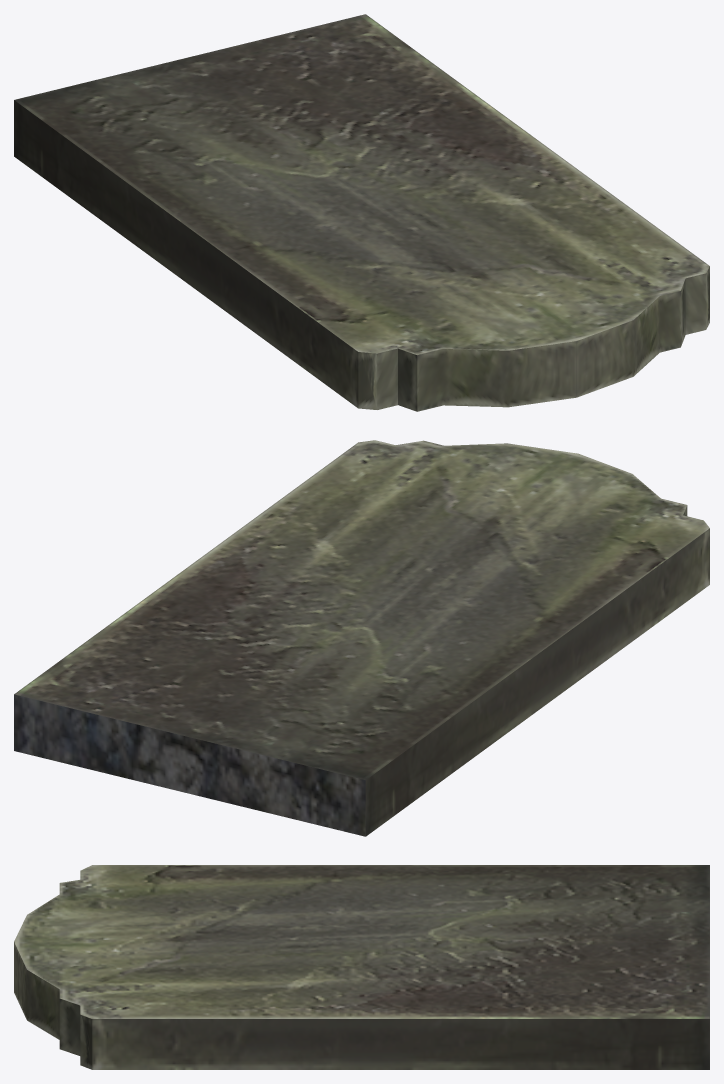
Rendered from Gravestone03.fbx.
3 views of the same model, one above another, from view 1: azimuth 30°, elevation 25°; view 2: azimuth 150°, elevation 25°; view 3: azimuth 270°, elevation 25° (orthographic). The views are drawn at different scales.
Visible parts, largest first — view 1: Gravestone03; view 2: Gravestone03; view 3: Gravestone03.
Part boxes in pixels (x1=…): Gravestone03: x1=14, y1=14, x2=709, y2=411; Gravestone03: x1=14, y1=440, x2=709, y2=836; Gravestone03: x1=14, y1=865, x2=709, y2=1069.
Size of the model in its own units: 51.08 by 7.85 by 97.55.
Materials: 1 (1 with a texture image).
